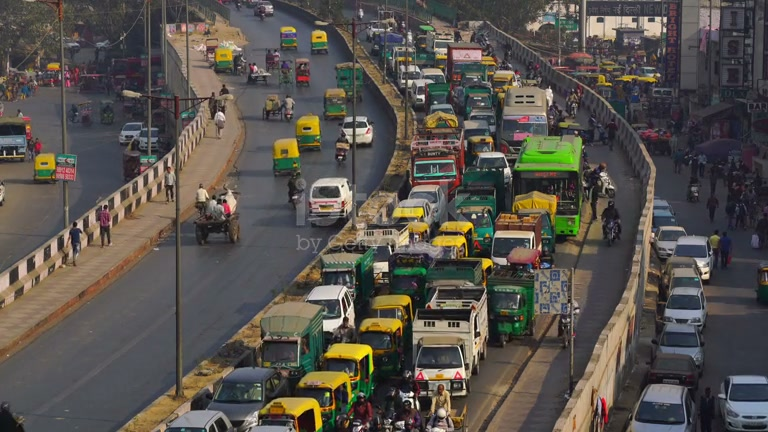bus: (512, 134, 583, 237), (256, 300, 326, 383), (487, 265, 538, 340), (499, 85, 549, 151), (473, 151, 513, 212), (410, 151, 461, 197), (445, 42, 485, 86), (0, 115, 29, 163), (323, 86, 348, 121)
car: (206, 366, 288, 426), (412, 338, 473, 398), (629, 381, 697, 432), (653, 323, 707, 376), (717, 374, 768, 430), (253, 396, 324, 432), (307, 176, 354, 227), (662, 281, 708, 332), (647, 352, 702, 390), (671, 234, 713, 283), (159, 409, 237, 432), (651, 225, 687, 261), (272, 137, 302, 176), (295, 113, 323, 151), (340, 115, 374, 146), (118, 122, 145, 145), (254, 3, 275, 20)
pedestrian: (68, 221, 83, 267), (98, 204, 113, 247), (719, 231, 732, 269), (706, 193, 718, 223)
